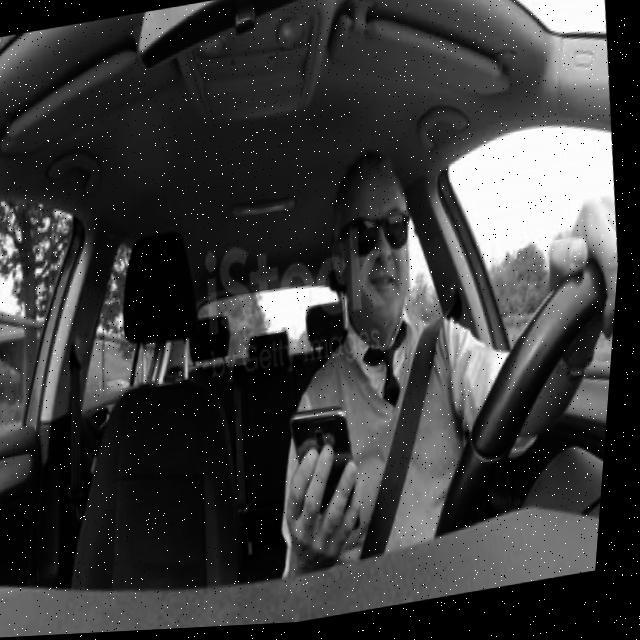PhoneCall: (288, 404, 378, 546)
